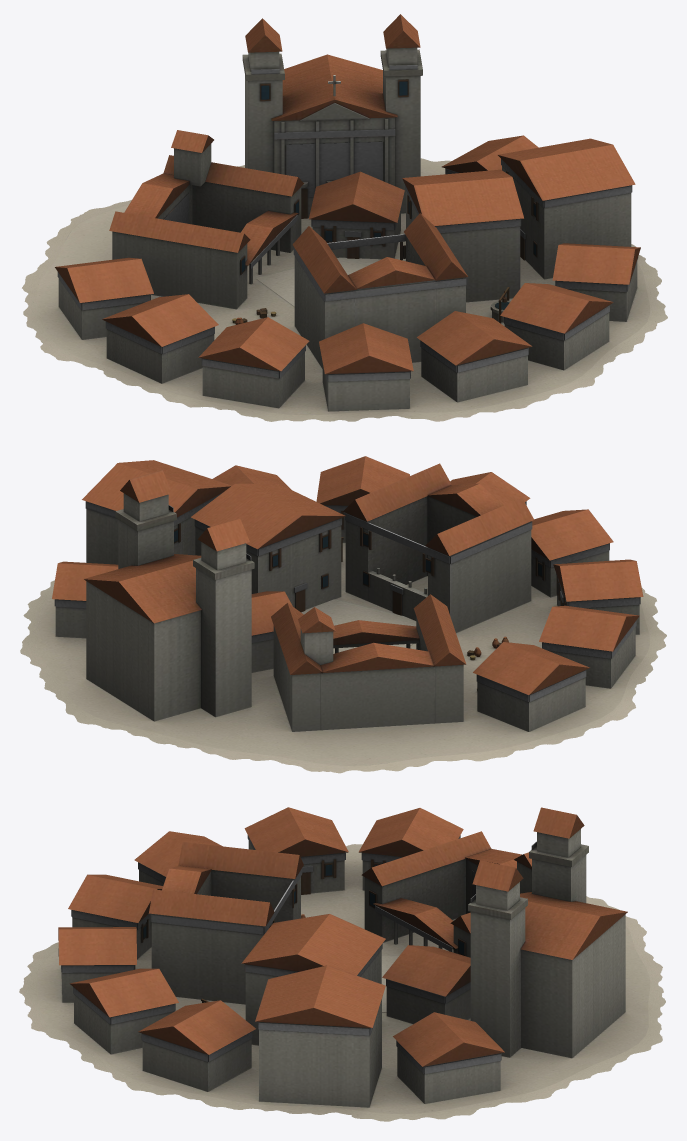
File: gunpowder-town-medium-b-americas-02d3d9e2.glb
3 renders of one model, top to bottom at view 1: azimuth 30°, elevation 25°; view 2: azimuth 150°, elevation 25°; view 3: azimuth 270°, elevation 25°, orthographic.
Visible parts, largest first — view 1: LOD0; view 2: LOD0; view 3: LOD0.
Part boxes in pixels (left/top/right/bottom): LOD0: left=22, top=14, right=667, bottom=421; LOD0: left=20, top=456, right=666, bottom=773; LOD0: left=19, top=807, right=665, bottom=1121.
Size of what is drawn, in the model's own units: 6.04 by 1.84 by 5.91.
Materials: 3 (3 with a texture image).
